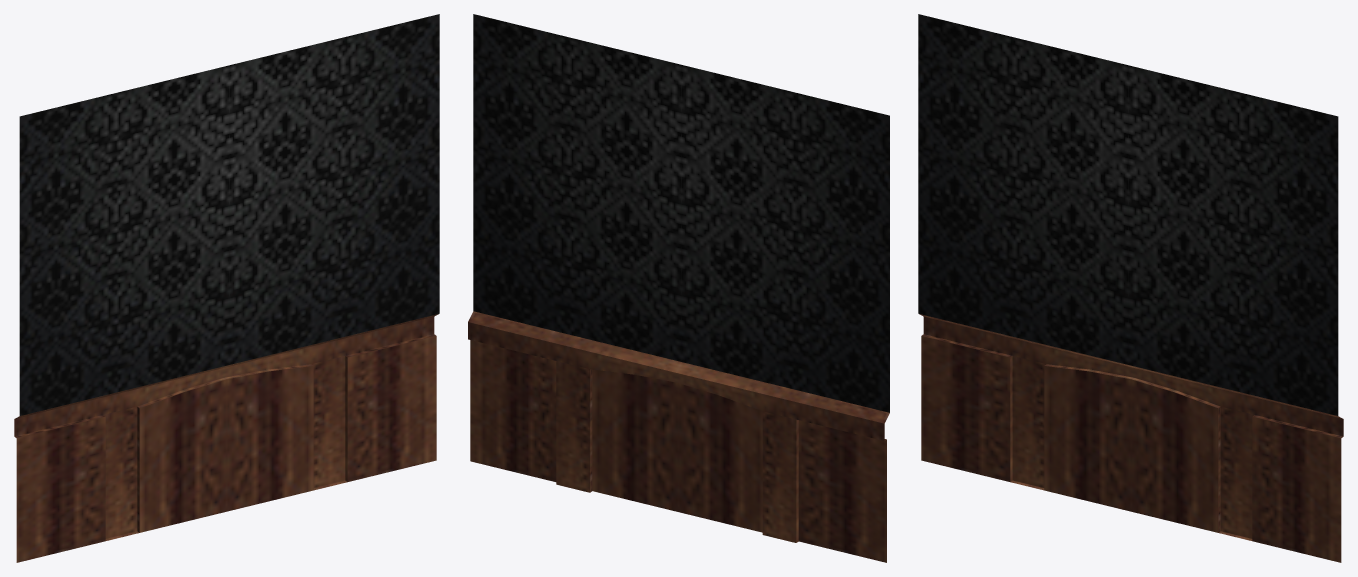
The model's file is WallpaperWall.fbx.
3 views of the same model, side by side, from view 1: azimuth 30°, elevation 25°; view 2: azimuth 150°, elevation 25°; view 3: azimuth 330°, elevation 25° (orthographic).
Visible parts, largest first — view 1: Cube.009; view 2: Cube.009; view 3: Cube.009.
Boxes of the visible parts, bbox=[...] form: Cube.009: bbox=[14, 14, 439, 562]; Cube.009: bbox=[468, 14, 889, 562]; Cube.009: bbox=[918, 14, 1343, 562].
Bounding box in the file's own units: 364 × 371 × 8.17.
1 material, 1 textured.
